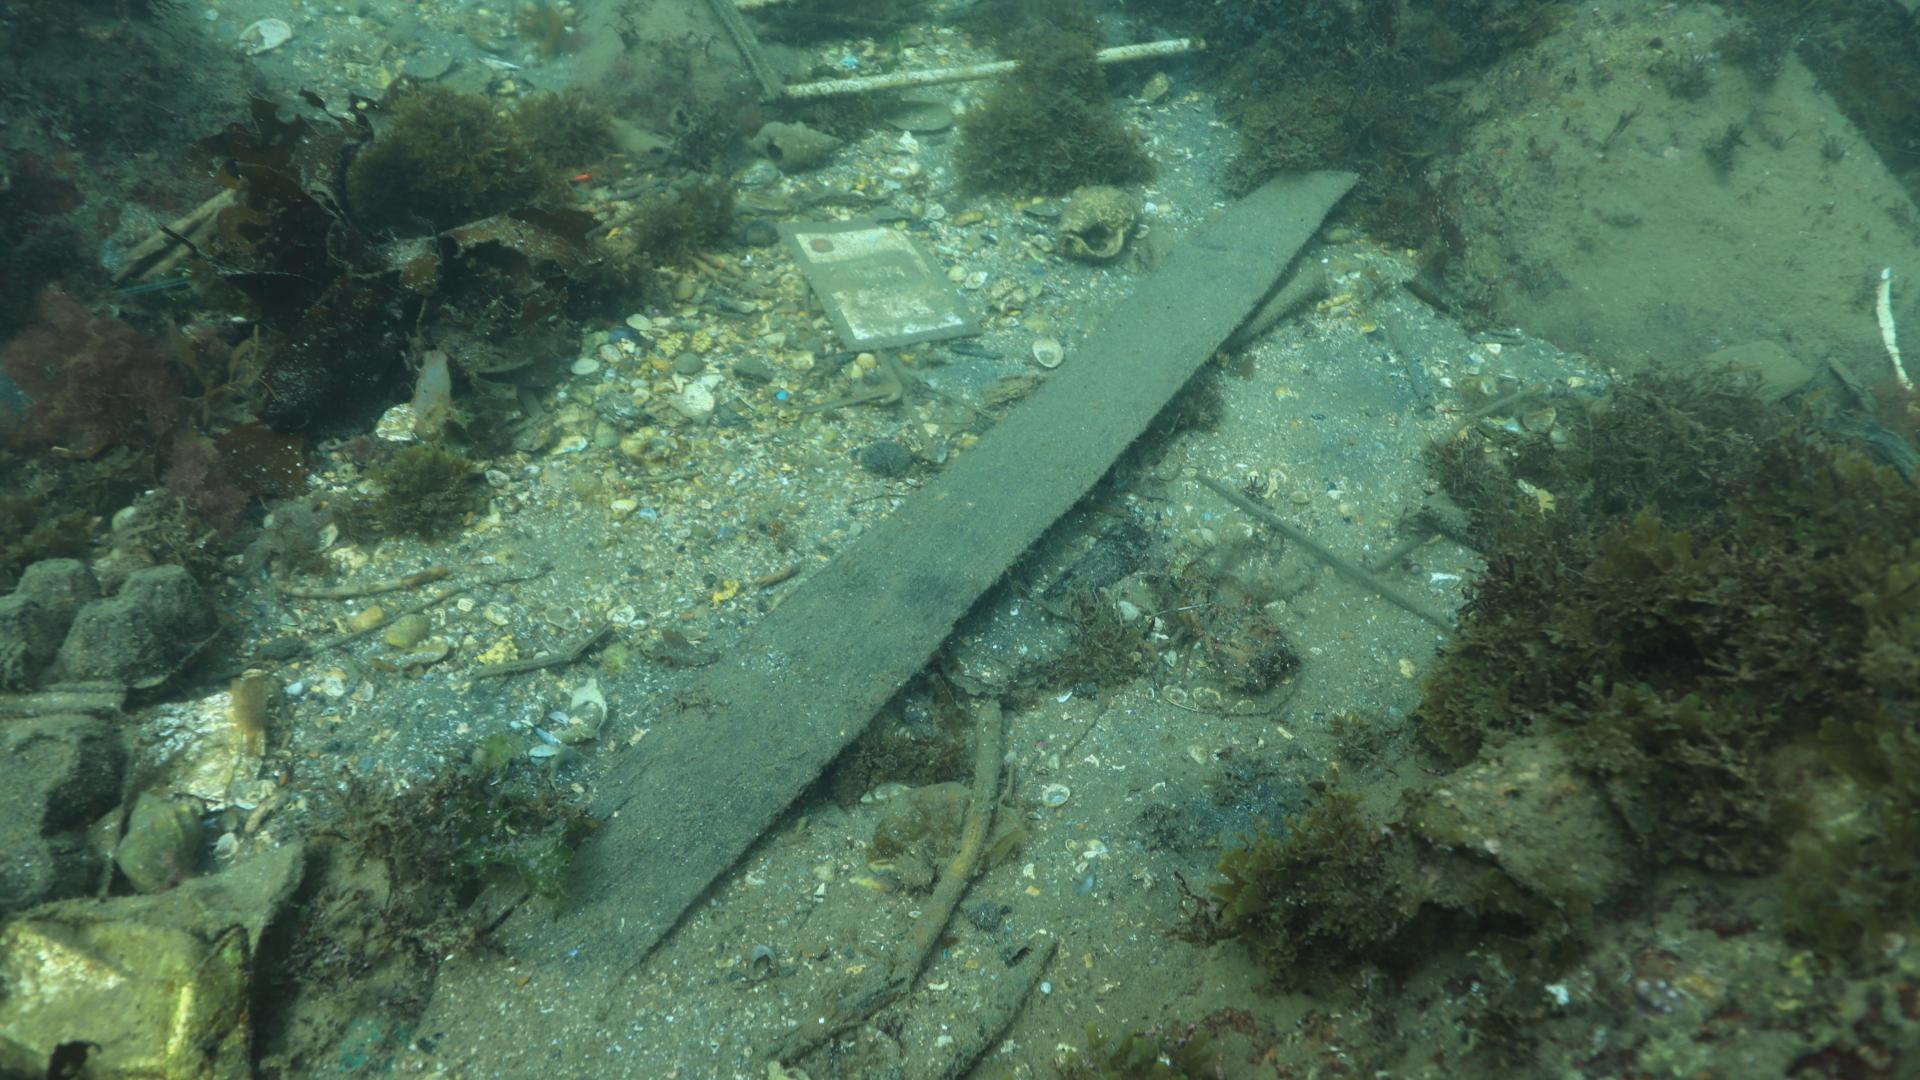wood: (462, 164, 1360, 992)
